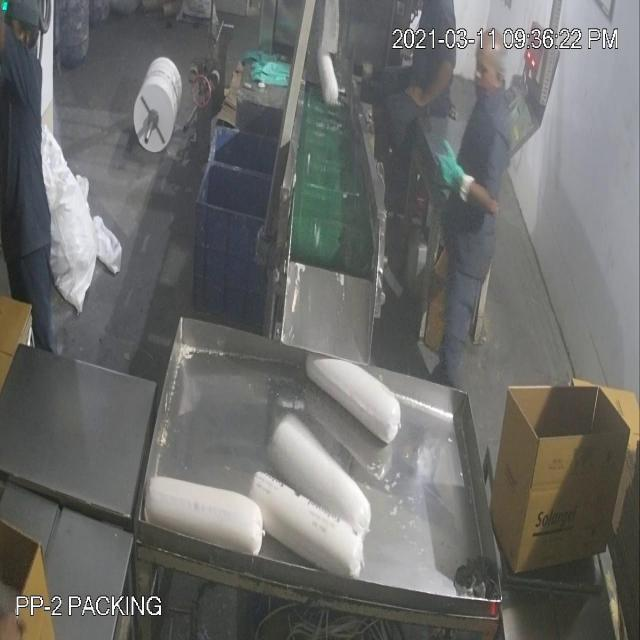Gloves: (57, 66, 452, 172)
